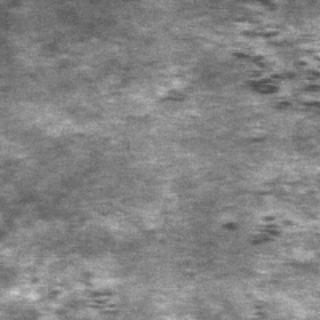rolled pit: (210, 4, 318, 136), (0, 256, 128, 318), (212, 200, 316, 248)
